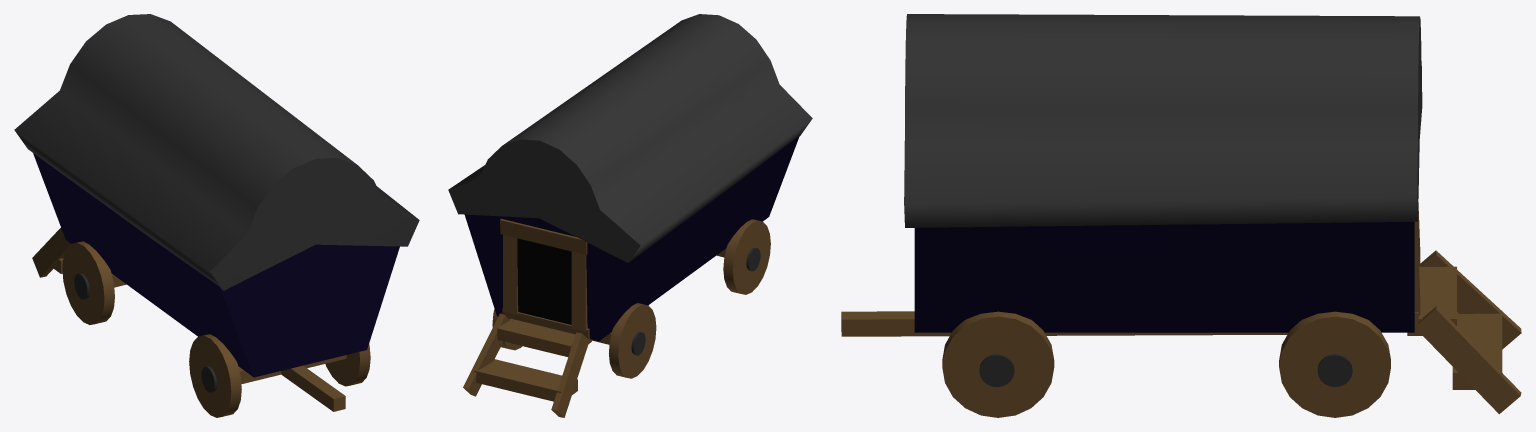
File: Fortune Wagon.fbx
The picture shows the model from 3 angles, left to right: view 1: azimuth 30°, elevation 25°; view 2: azimuth 150°, elevation 25°; view 3: azimuth 270°, elevation 25°; orthographic projection. The views are drawn at different scales.
Parts seen in each view (by area): view 1: pCube14; view 2: pCube14; view 3: pCube14.
Part boxes in pixels (x1,y1,x2,y2): pCube14: (14,14,419,417); pCube14: (448,14,812,417); pCube14: (841,14,1521,417).
Size of the model in its own units: 17.47 by 21.03 by 36.01.
